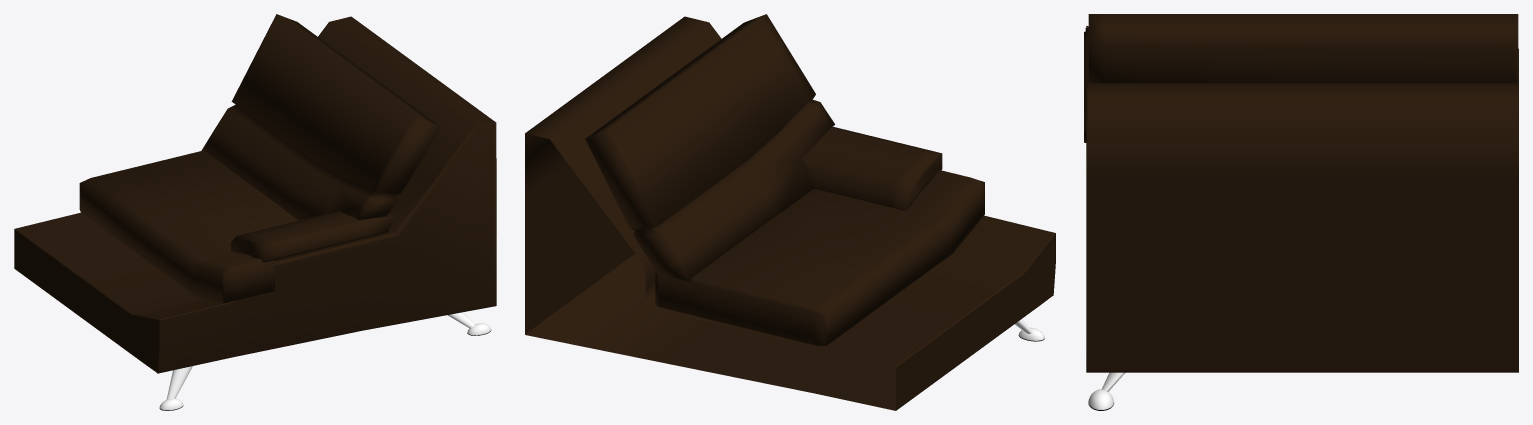
File: couchtwentyfive.gltf
3 renders of one model, left to right at view 1: azimuth 30°, elevation 25°; view 2: azimuth 150°, elevation 25°; view 3: azimuth 270°, elevation 25°, orthographic. The views are drawn at different scales.
Parts seen in each view (by area): view 1: sofa-base, espaldar sofa, sofa-cojin, sofa-brazos; view 2: sofa-base, espaldar sofa, sofa-cojin, sofa-brazos; view 3: sofa-base, espaldar sofa, sofa-brazos.
Part boxes in pixels (x1,y1,x2,y2): sofa-base: (14,16,496,410); espaldar sofa: (201,14,441,220); sofa-cojin: (79,150,298,303); sofa-brazos: (231,211,395,262); sofa-base: (525,16,1055,410); espaldar sofa: (585,14,834,281); sofa-cojin: (655,170,984,345); sofa-brazos: (802,126,942,210); sofa-base: (1086,26,1518,410); espaldar sofa: (1088,14,1518,83); sofa-brazos: (1084,31,1088,142).
Bounding box in the file's own units: 0.0263 × 0.0172 × 0.0197.
